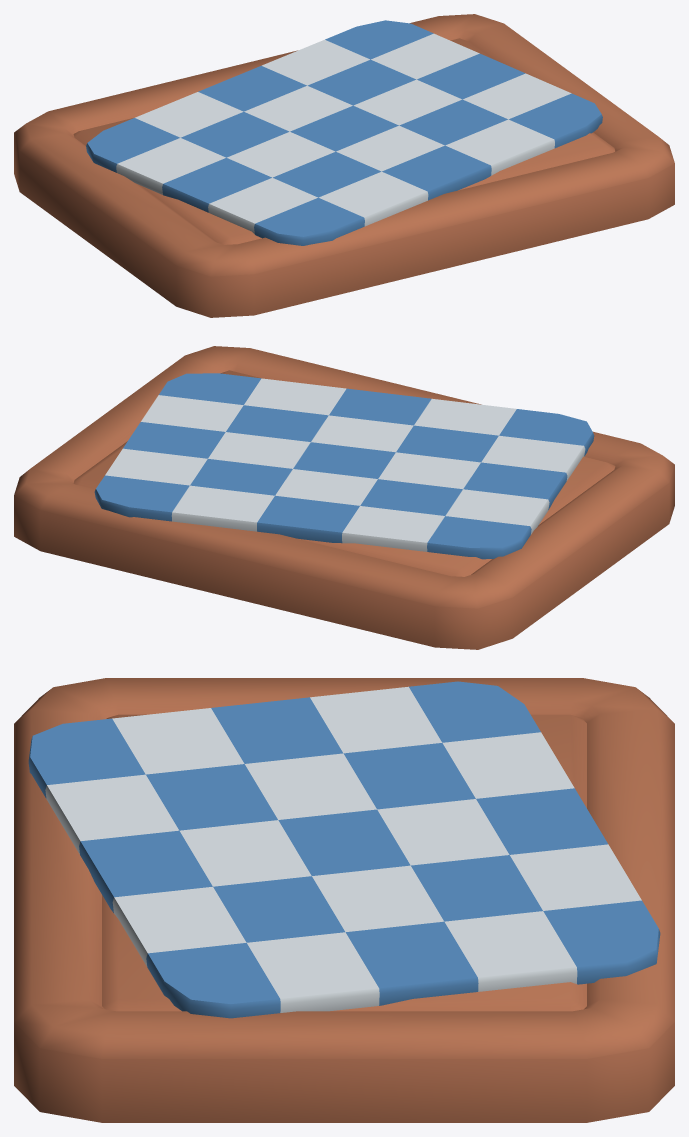
File: serving-tray.glb
3 views of the same model, one above another, from view 1: azimuth 30°, elevation 25°; view 2: azimuth 150°, elevation 25°; view 3: azimuth 270°, elevation 25° (orthographic). The views are drawn at different scales.
Visible parts, largest first — view 1: serving_tray; view 2: serving_tray; view 3: serving_tray.
Part boxes in pixels (x1,y1,x2,y2): serving_tray: [14, 14, 674, 317]; serving_tray: [14, 346, 674, 649]; serving_tray: [14, 678, 674, 1122].
Bounding box in the file's own units: 1 × 0.1175 × 0.75.
Materials: 1 (1 with a texture image).
